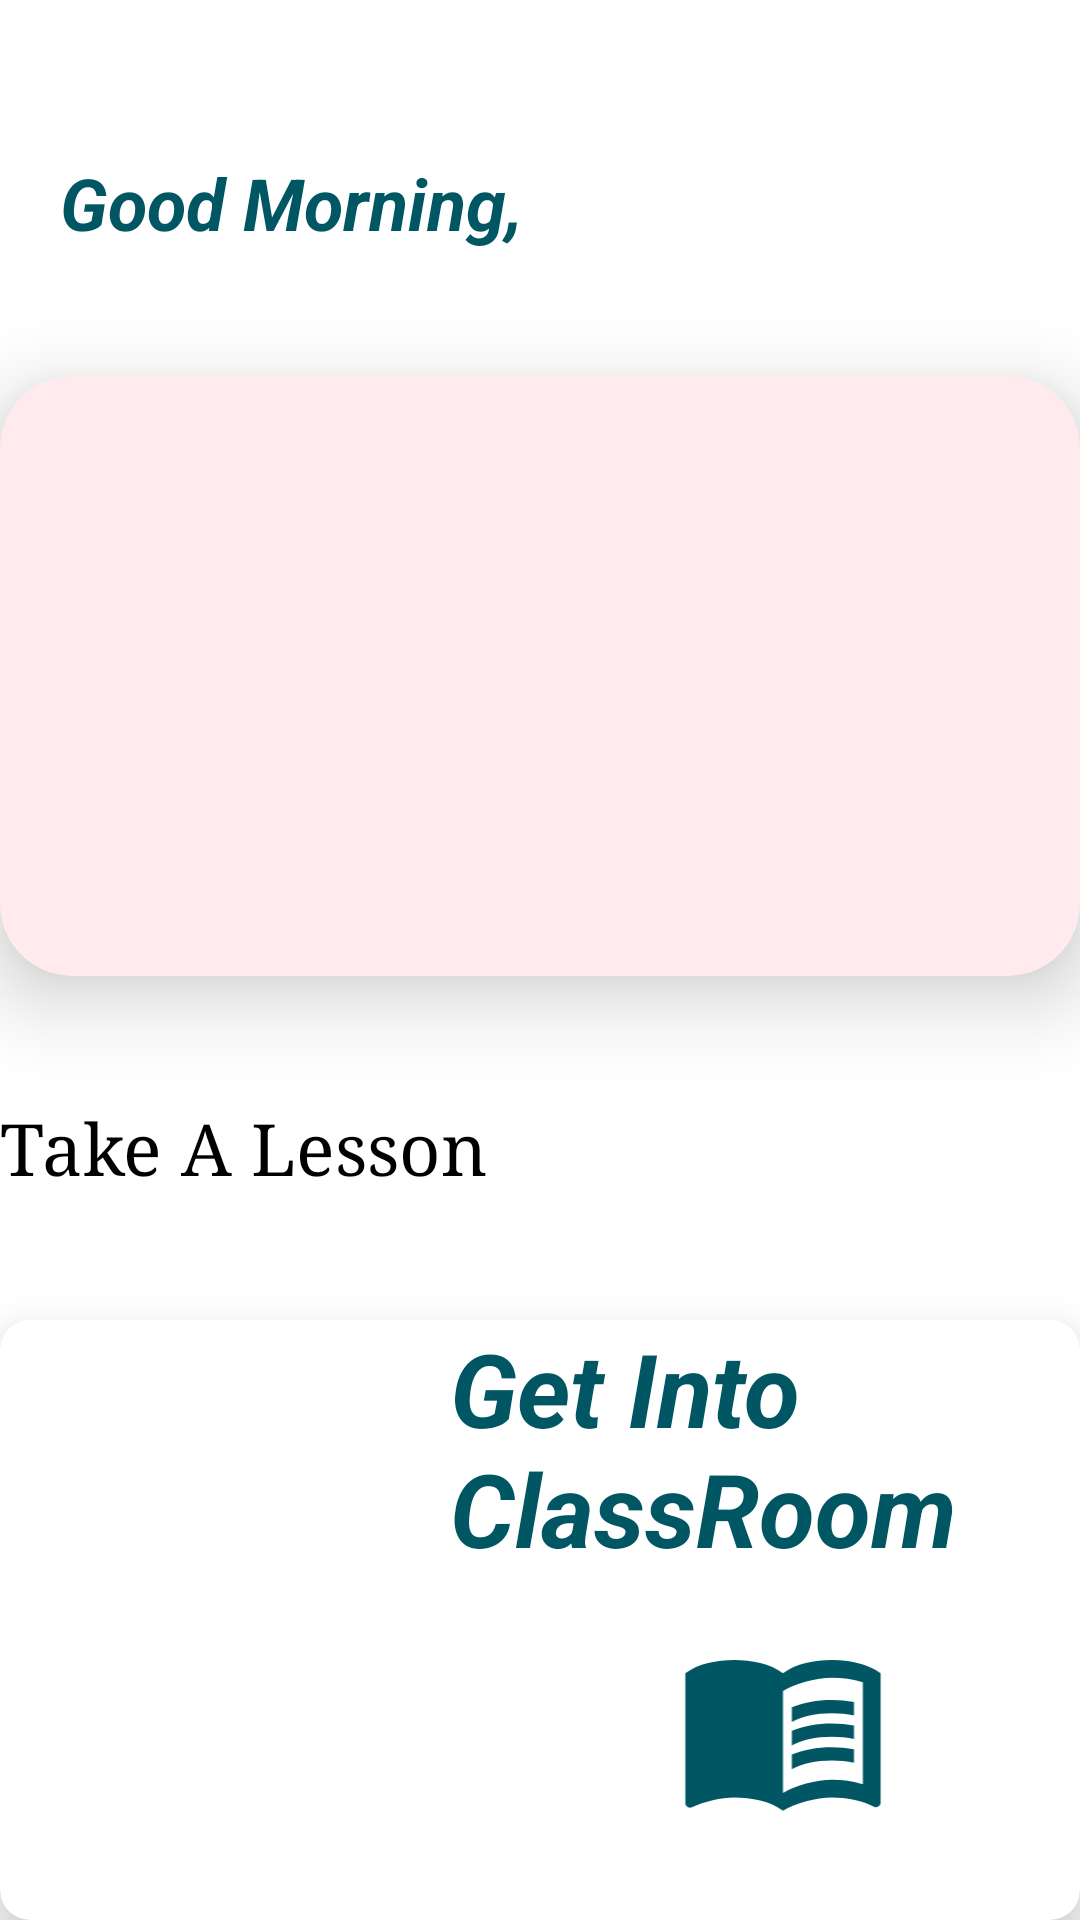

Icon bounding boxes for this 1080 × 1920 phone screenshot, format (x1, y1, x2, y2):
book: (685, 1660, 881, 1811)
